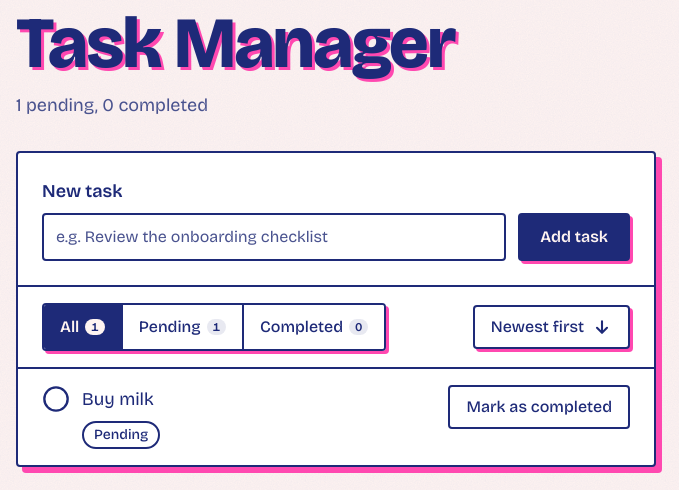
App › marks a task as completed from the server response and announces it
Click the button "Mark as completed" at (539, 407), box [448,385,630,429]
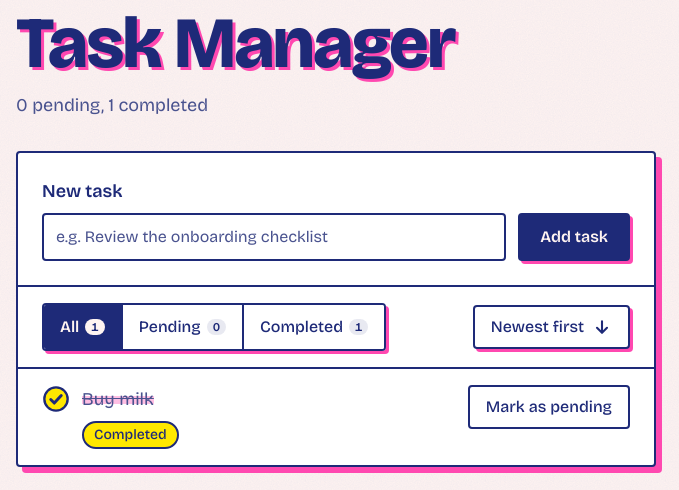
Expected: the list item "Buy milk Completed Mark as pending" is shown, [18,369,654,465]
Now the button "Mark as pending" is shown, box [468,385,630,429]
